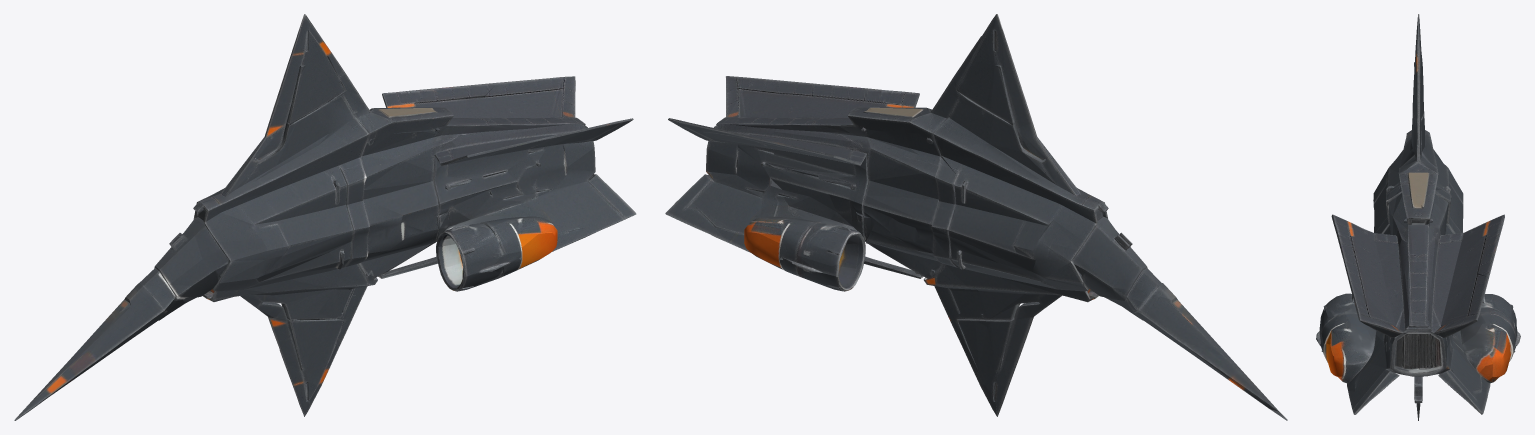
File: diver.glb
3 renders of one model, left to right at view 1: azimuth 30°, elevation 25°; view 2: azimuth 150°, elevation 25°; view 3: azimuth 270°, elevation 25°, orthographic.
Size of the model in its own units: 1.9 by 1.24 by 0.566.
Materials: 1 (1 with a texture image).
